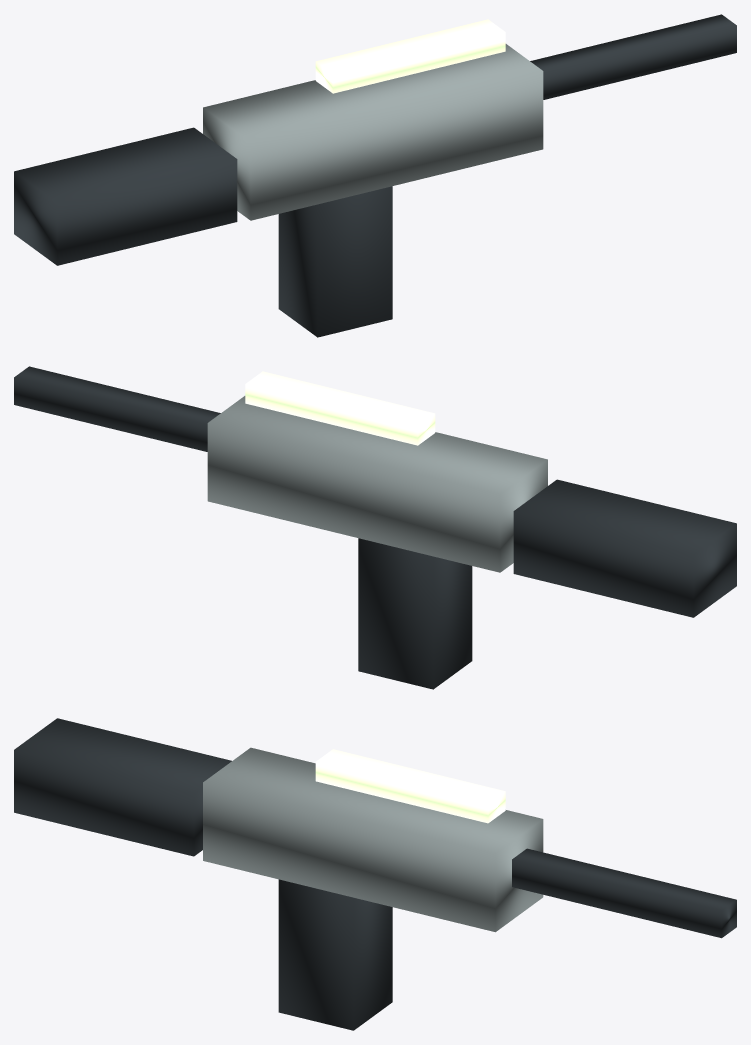
The model's file is weapon-carbine-lod1.glb.
3 renders of one model, top to bottom at view 1: azimuth 30°, elevation 25°; view 2: azimuth 150°, elevation 25°; view 3: azimuth 330°, elevation 25°, orthographic.
Visible parts, largest first — view 1: carbine-receiver, carbine-stock, carbine-magazine, carbine-barrel, carbine-status-rail; view 2: carbine-receiver, carbine-stock, carbine-magazine, carbine-barrel, carbine-status-rail; view 3: carbine-receiver, carbine-stock, carbine-magazine, carbine-barrel, carbine-status-rail.
Part boxes in pixels (box(x1,y1,x2,y2)): carbine-receiver: box(203, 44, 543, 220); carbine-stock: box(14, 127, 237, 265); carbine-magazine: box(278, 186, 392, 337); carbine-barrel: box(530, 14, 736, 99); carbine-status-rail: box(315, 19, 505, 93); carbine-receiver: box(207, 396, 547, 572); carbine-stock: box(513, 479, 736, 617); carbine-magazine: box(358, 538, 472, 689); carbine-barrel: box(14, 366, 220, 451); carbine-status-rail: box(245, 371, 435, 445); carbine-receiver: box(203, 747, 543, 932); carbine-stock: box(14, 718, 231, 856); carbine-magazine: box(278, 879, 392, 1030); carbine-barrel: box(512, 848, 736, 938); carbine-status-rail: box(315, 749, 505, 823).
Bounding box in the file's own units: 1.85 × 0.635 × 0.22.
